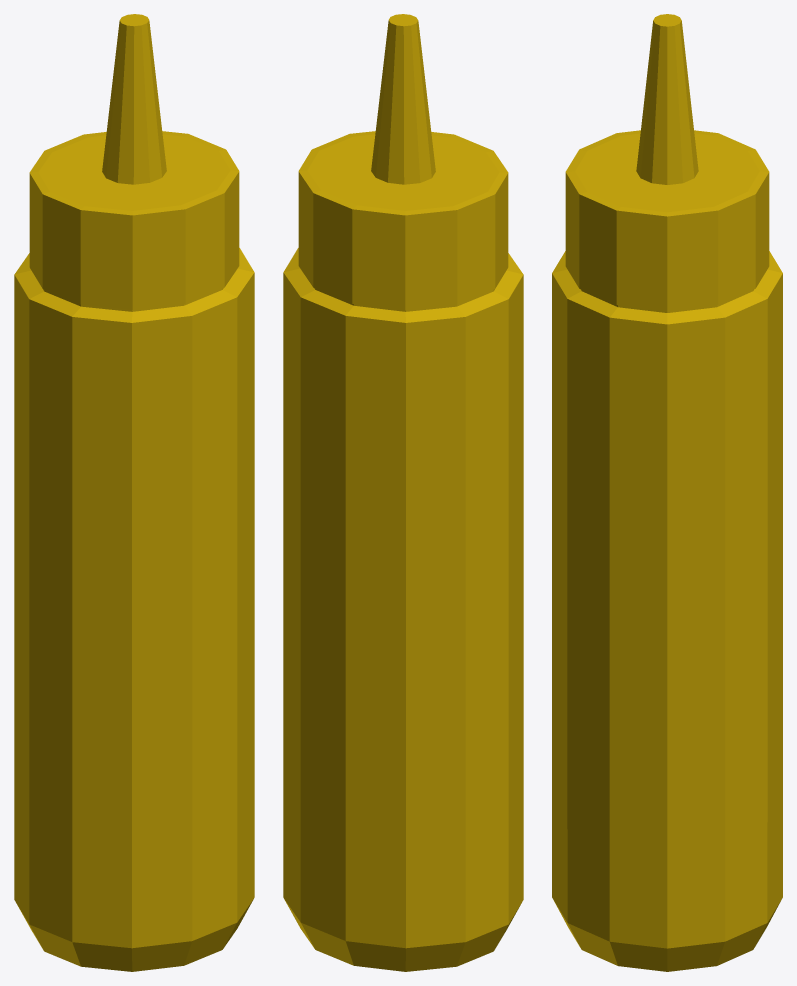
Rendered from LudumDareMustard.fbx.
3 views of the same model, side by side, from view 1: azimuth 30°, elevation 25°; view 2: azimuth 150°, elevation 25°; view 3: azimuth 270°, elevation 25° (orthographic).
Visible parts, largest first — view 1: Mustard; view 2: Mustard; view 3: Mustard.
Boxes of the visible parts, box(x1,y1,x2,y2) form: Mustard: box(14, 14, 254, 971); Mustard: box(283, 14, 523, 971); Mustard: box(552, 14, 782, 971).
Bounding box in the file's own units: 5.95 × 24.57 × 5.67.
